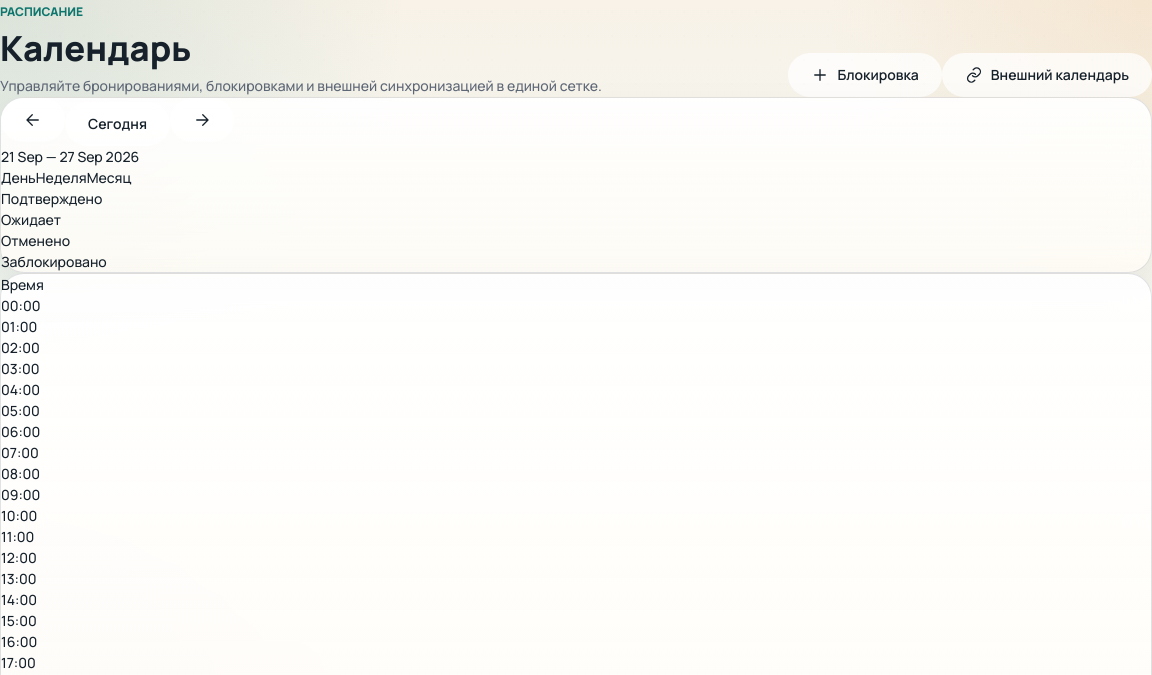
Test: CalendarPage › opens external calendar modal on button click
Click the button "Внешний календарь" at (1047, 75), box [942,53,1151,97]
(page scrolled)
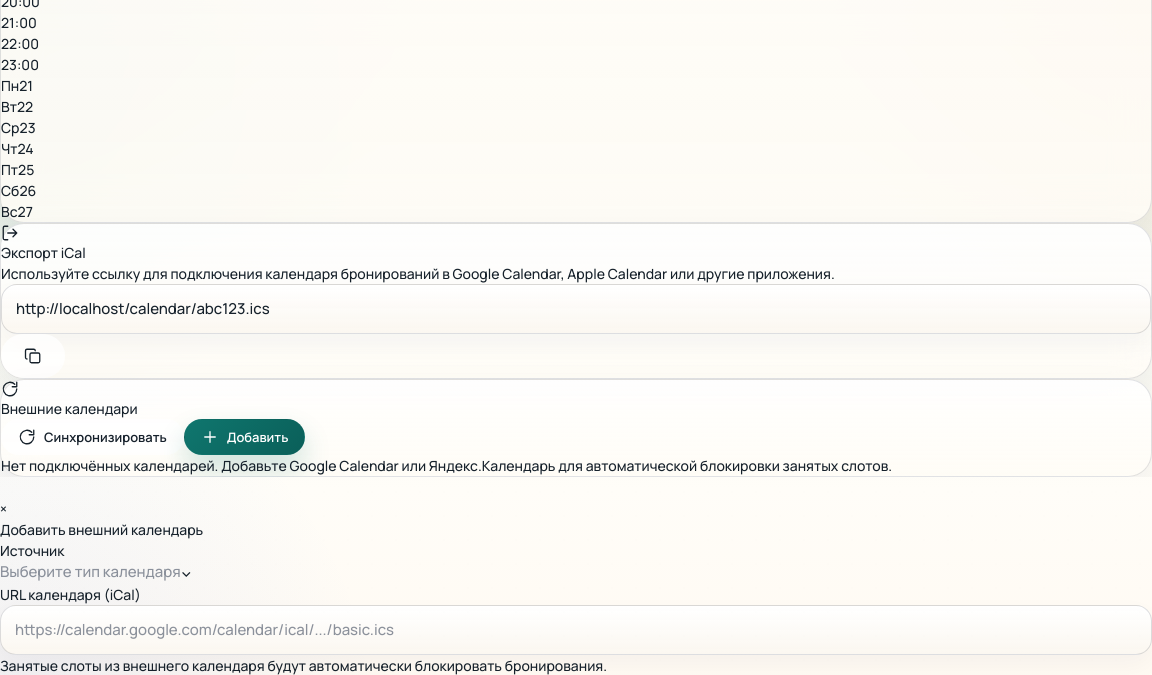
Expected: the text "Добавить внешний календарь" is shown, [0,520,203,539]
